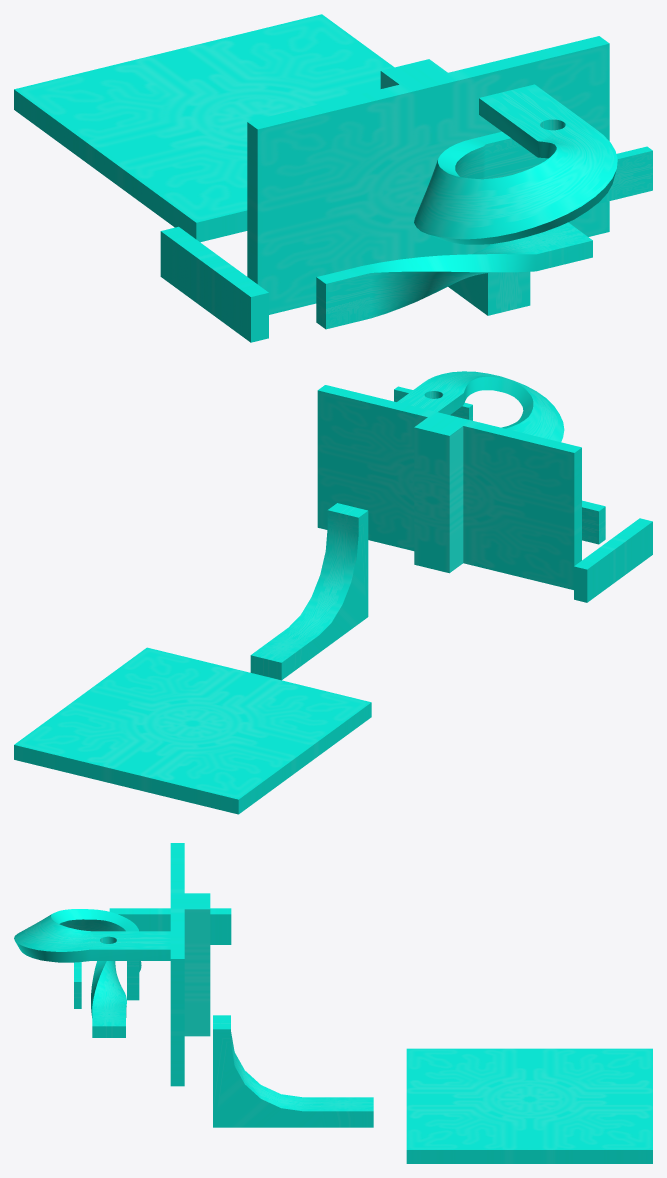
Rendered from 0_ground.fbx.
The picture shows the model from 3 angles, top to bottom: view 1: azimuth 30°, elevation 25°; view 2: azimuth 150°, elevation 25°; view 3: azimuth 270°, elevation 25°; orthographic projection. The views are drawn at different scales.
Visible parts, largest first — view 1: mqo_mesh; view 2: mqo_mesh; view 3: mqo_mesh.
Part boxes in pixels (x1,y1,x2,y2): mqo_mesh: (14,14,652,342); mqo_mesh: (14,371,652,814); mqo_mesh: (14,843,652,1163).
Size of the model in its own units: 335 by 185 by 579.
